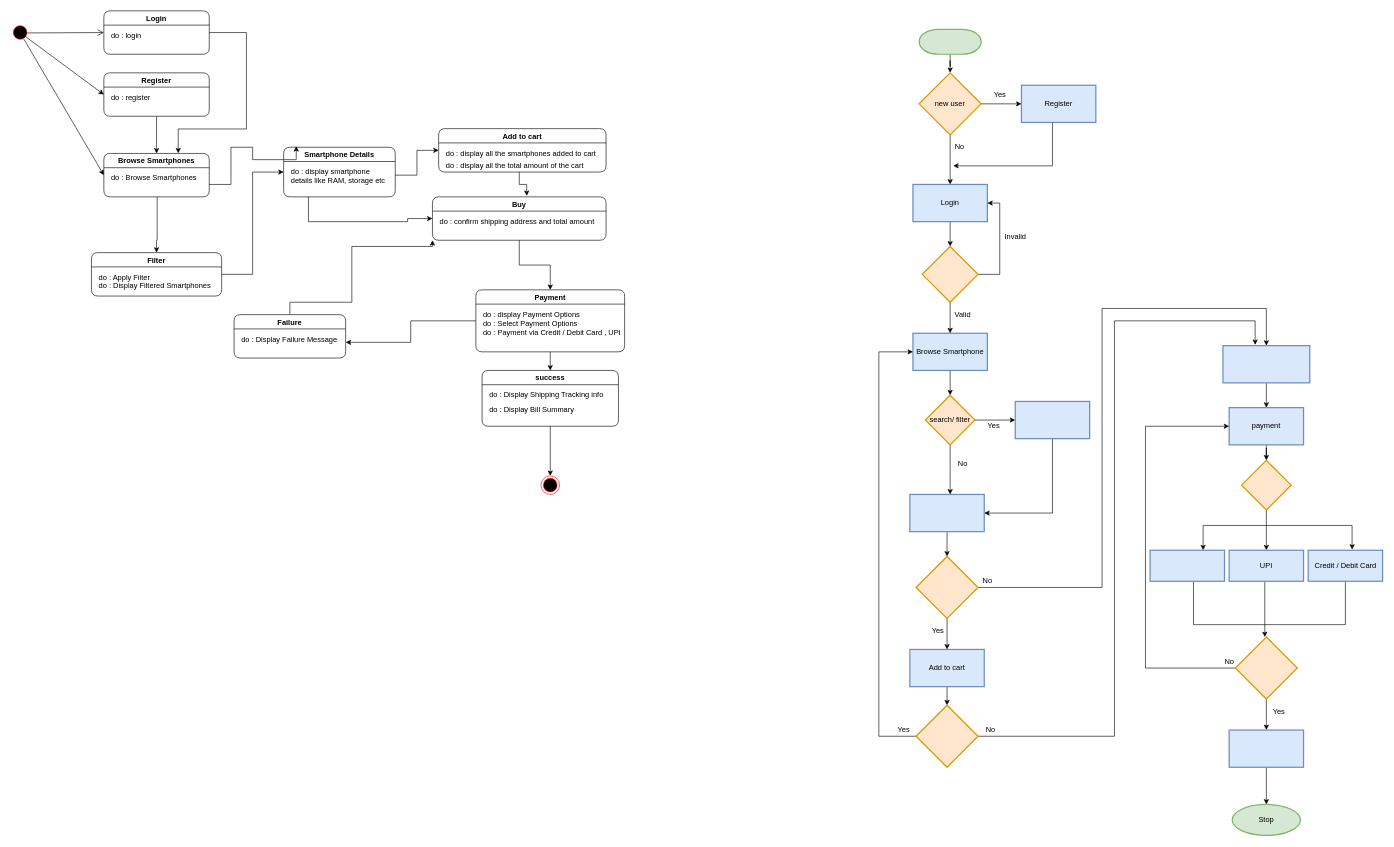
Some shapes in this 1394 by 847 pixel diagram are drawn without their labels. Each missing label, with the centre of its shape:
"add more smartphones to cart" goes at (946,736).
"add shipping address" goes at (1266,364).
"buy multiple smartphones" goes at (946,587).
"display Bill summary and tracking info" goes at (1266,748).
"Display filtered smartphones" goes at (1052,420).
"display smartphone details" goes at (947,513).
"net Banking" goes at (1187,565).
"payment successfull" goes at (1266,667).
"Start" goes at (949,42).
"Verify Credentials" goes at (949,274).
